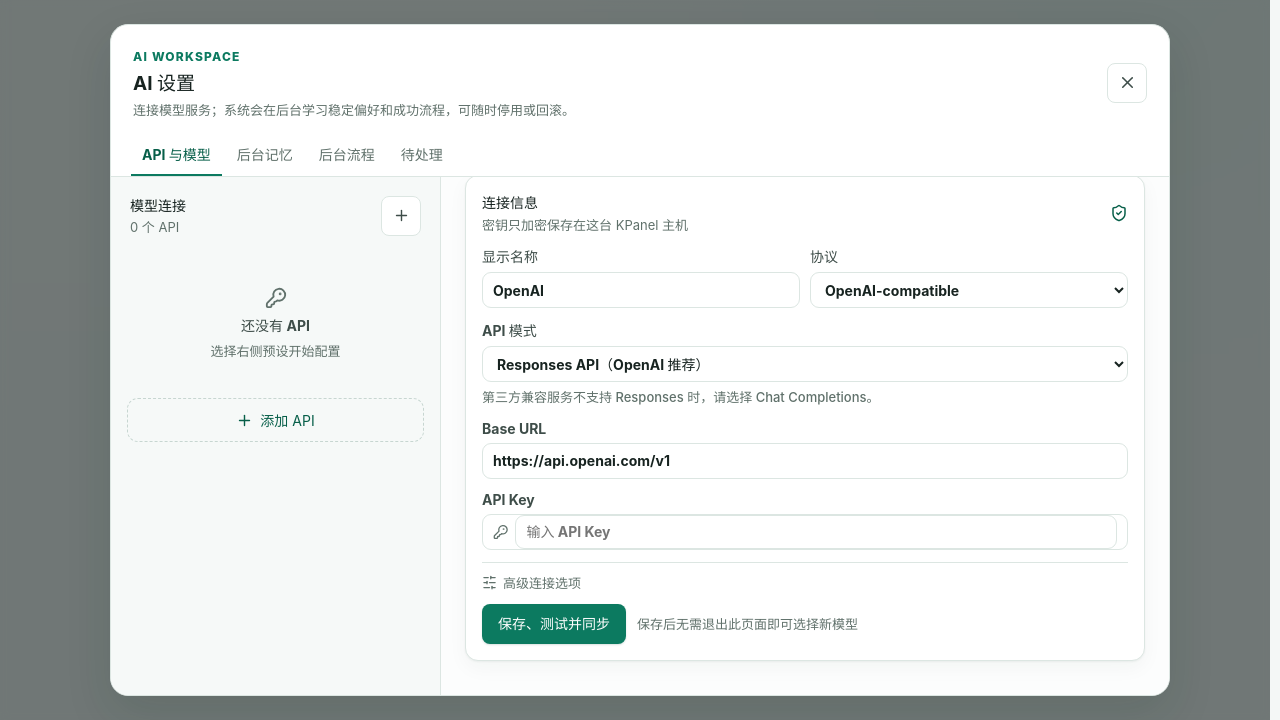
AI provider API mode › saves, verifies and syncs a new API in one guided flow
This screenshot has width=1280, height=720.
(page scrolled)
Type "secret-for-test" into the password field labelled "API Key". click: {"x": 816, "y": 532}
box: [515,515,1117,549]
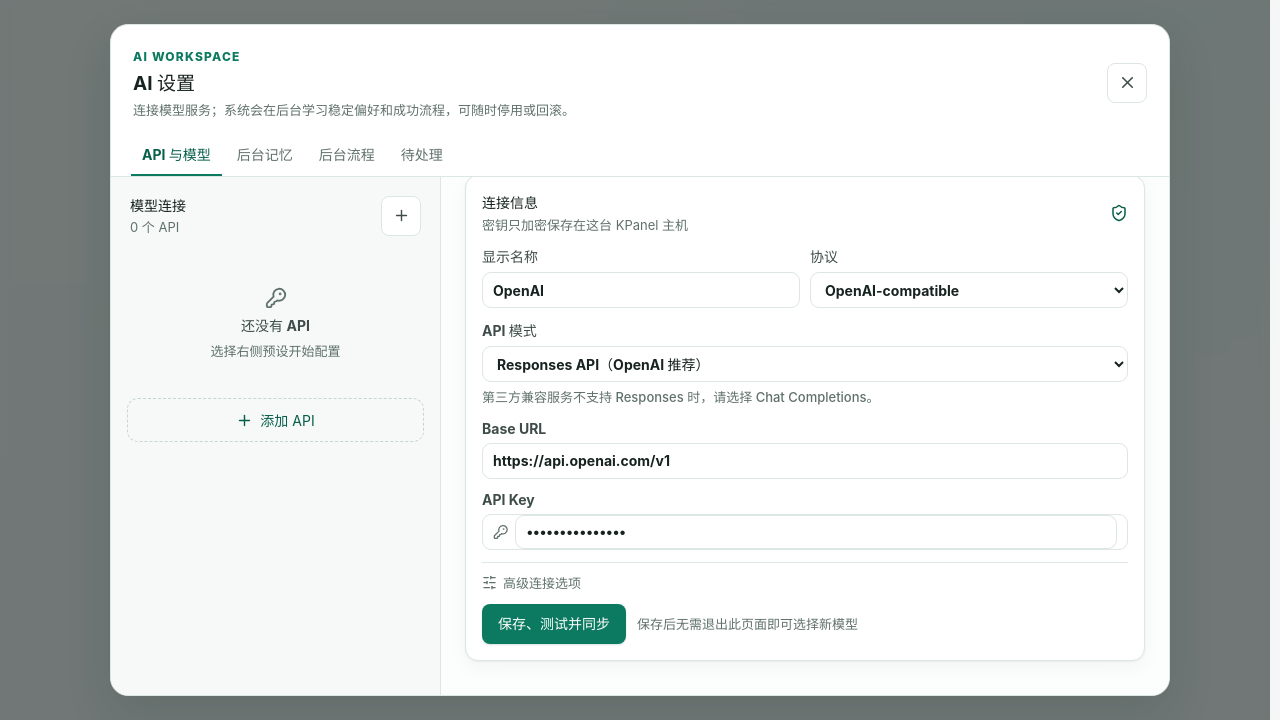
Click the button with class "button--primary". click: {"x": 554, "y": 624}
box: [482,604,626,644]
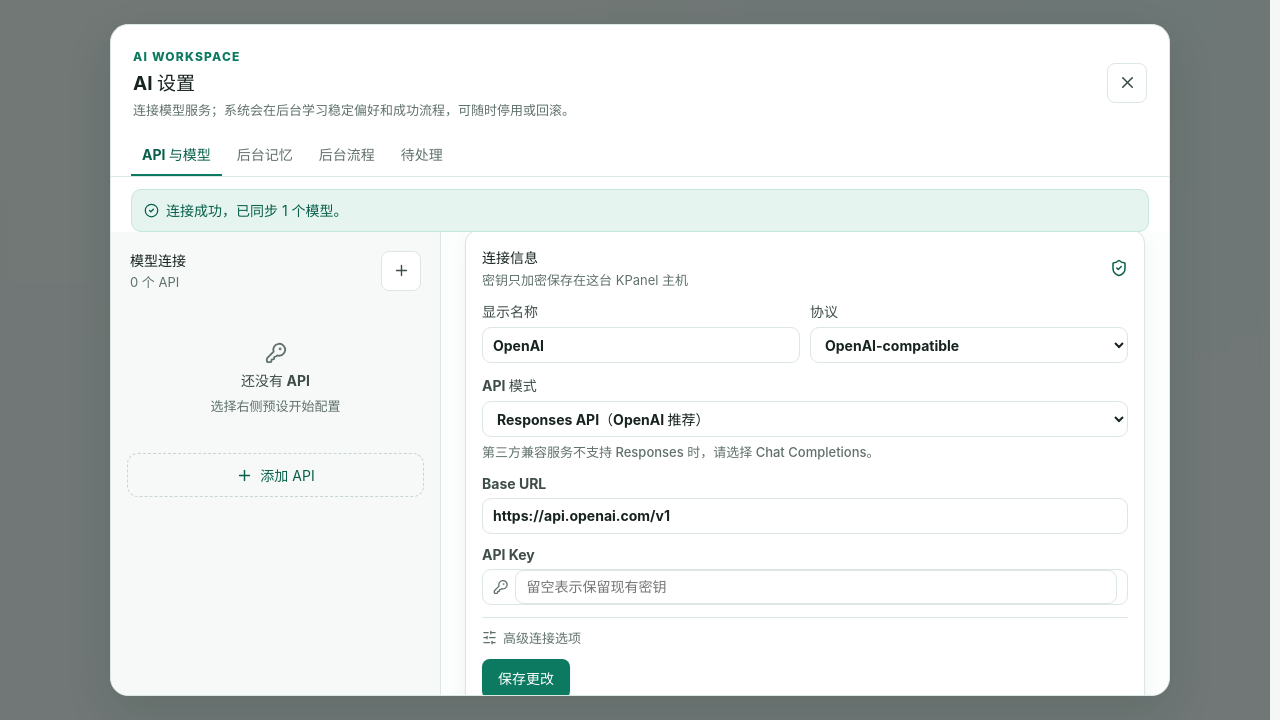
Expected: the text "连接成功，已同步 1 个模型" is shown, [166,202,348,219]
